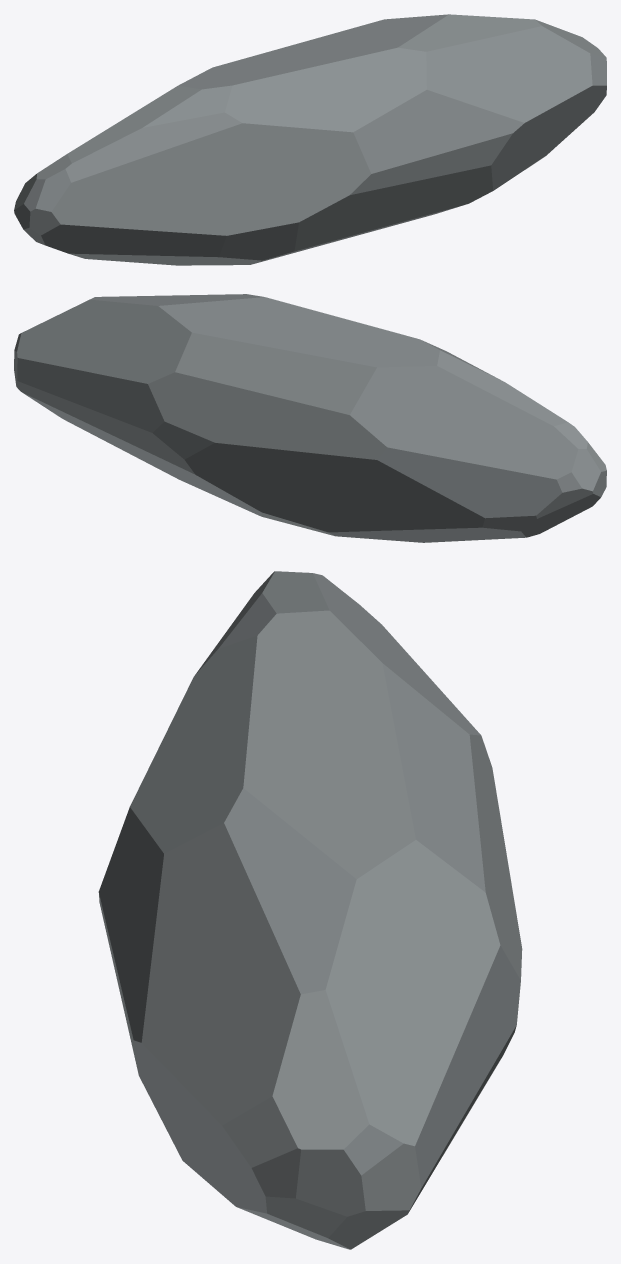
Rendered from NHP_Rock_Boulder_A3_02.fbx.
The picture shows the model from 3 angles, top to bottom: view 1: azimuth 30°, elevation 25°; view 2: azimuth 150°, elevation 25°; view 3: azimuth 270°, elevation 25°; orthographic projection. The views are drawn at different scales.
Visible parts, largest first — view 1: NHP_Rock_Boulder_A3_02; view 2: NHP_Rock_Boulder_A3_02; view 3: NHP_Rock_Boulder_A3_02.
Part boxes in pixels (x1=…): NHP_Rock_Boulder_A3_02: x1=14, y1=14, x2=606, y2=265; NHP_Rock_Boulder_A3_02: x1=14, y1=294, x2=606, y2=542; NHP_Rock_Boulder_A3_02: x1=98, y1=571, x2=522, y2=1249.
Bounding box in the file's own units: 7.39 × 2.18 × 2.36.
